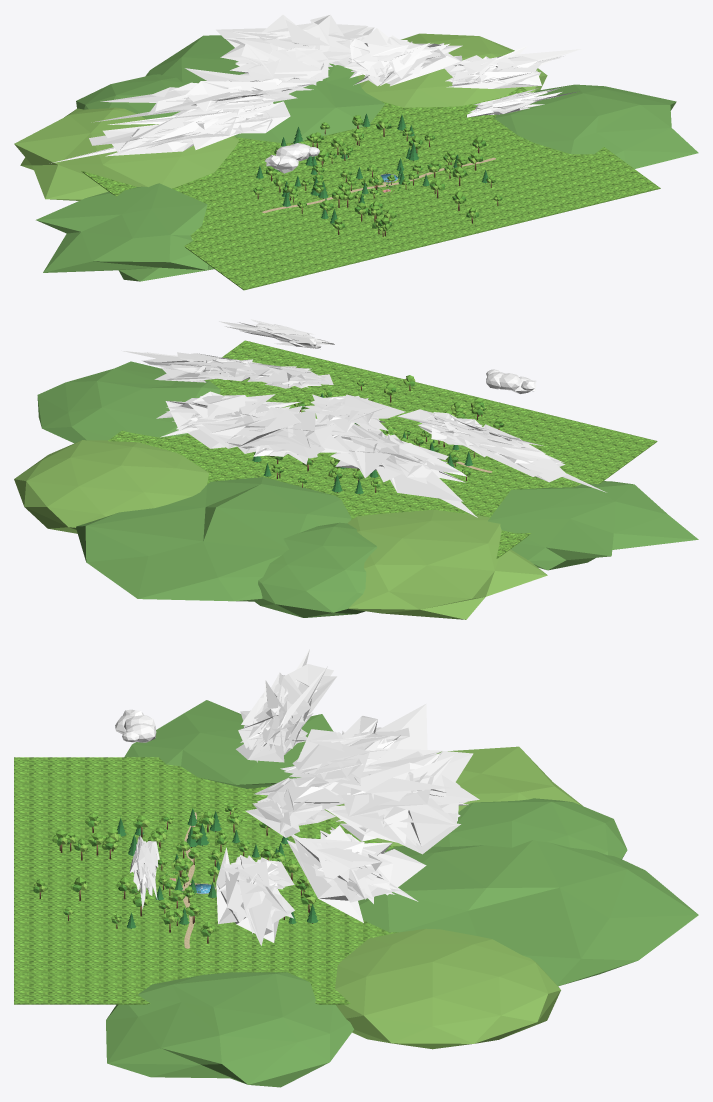
File: parque.glb
3 renders of one model, top to bottom at view 1: azimuth 30°, elevation 25°; view 2: azimuth 150°, elevation 25°; view 3: azimuth 270°, elevation 25°, orthographic. The views are drawn at different scales.
Visible parts, largest first — view 1: pasto, cerro2, nube, cerro, copa2, pino, copa, copa3, tronco, sendero; view 2: cerro2, cerro, pasto, nube, copa2, copa3, pino, copa; view 3: cerro2, pasto, nube, cerro, copa2, pino, copa3, copa, tronco.
Boxes of the visible parts, box(x1,y1,x2,y2) form: pasto: box(81, 87, 660, 290); cerro2: box(36, 35, 698, 281); nube: box(51, 14, 580, 173); cerro: box(14, 33, 547, 200); copa2: box(253, 115, 500, 230); pino: box(256, 113, 487, 223); copa: box(253, 119, 502, 230); copa3: box(254, 118, 497, 231); tronco: box(257, 125, 498, 237); sendero: box(262, 157, 495, 213); cerro2: box(37, 361, 698, 617); cerro: box(14, 440, 547, 619); pasto: box(108, 340, 657, 558); nube: box(121, 319, 606, 517); copa2: box(272, 375, 502, 487); copa3: box(269, 378, 504, 485); pino: box(252, 393, 472, 494); copa: box(275, 381, 503, 487); cerro2: box(106, 700, 698, 1087); pasto: box(14, 757, 400, 1004); nube: box(115, 649, 479, 945); cerro: box(324, 746, 582, 1049); copa2: box(33, 803, 319, 933); pino: box(117, 808, 318, 928); copa3: box(34, 806, 315, 933); copa: box(33, 807, 309, 936); tronco: box(39, 811, 312, 943).
Bounding box in the file's own units: 344 × 68.55 × 259.
41 materials, 6 textured.
